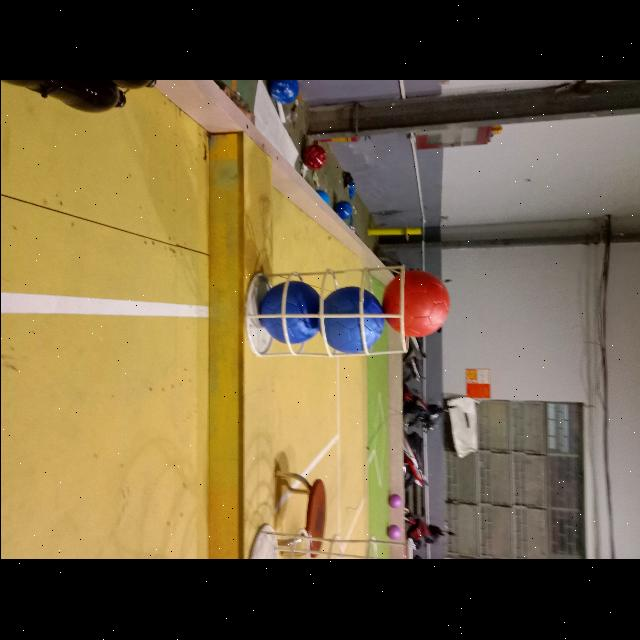B: (320, 286, 384, 354), (258, 282, 322, 344), (267, 80, 299, 104)
R: (382, 271, 450, 339)
S: (234, 269, 412, 363), (244, 530, 418, 560)
